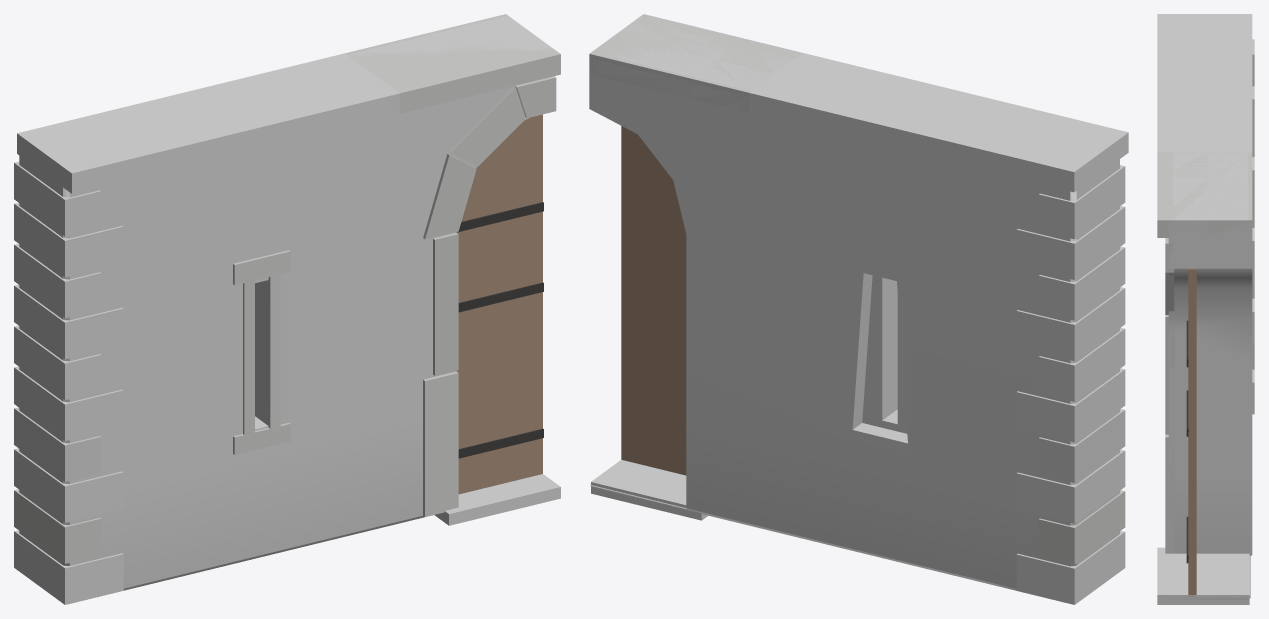
The model's file is Kit_RealKeep_W1FL_Fractured.fbx.
The picture shows the model from 3 angles, left to right: view 1: azimuth 30°, elevation 25°; view 2: azimuth 150°, elevation 25°; view 3: azimuth 270°, elevation 25°; orthographic projection. The views are drawn at different scales.
Visible parts, largest first — view 1: Kit_RealKeep_W1FL_frag_02, Kit_RealKeep_W1FL_frag_03, Kit_RealKeep_W1FL_frag_06, Kit_RealKeep_W1FL_frag_01, Kit_RealKeep_W1FL_frag_05, Kit_RealKeep_W1FL_frag_04, Kit_RealKeep_W1FL_frag_10, Kit_RealKeep_W1FL_frag_08, Kit_RealKeep_W1FL_frag_09, Kit_RealKeep_W1FL_frag_07; view 2: Kit_RealKeep_W1FL_frag_02, Kit_RealKeep_W1FL_frag_03, Kit_RealKeep_W1FL_frag_06, Kit_RealKeep_W1FL_frag_01, Kit_RealKeep_W1FL_frag_04, Kit_RealKeep_W1FL_frag_05, Kit_RealKeep_W1FL_frag_10, Kit_RealKeep_W1FL_frag_08, Kit_RealKeep_W1FL_frag_07, Kit_RealKeep_W1FL_frag_09; view 3: Kit_RealKeep_W1FL_frag_05, Kit_RealKeep_W1FL_frag_06, Kit_RealKeep_W1FL_frag_02, Kit_RealKeep_W1FL_frag_04, Kit_RealKeep_W1FL_frag_10, Kit_RealKeep_W1FL_frag_01.
Part boxes in pixels (<box>): Kit_RealKeep_W1FL_frag_02: <box>14,93,236,377</box>; Kit_RealKeep_W1FL_frag_03: <box>228,229,393,565</box>; Kit_RealKeep_W1FL_frag_06: <box>345,14,560,375</box>; Kit_RealKeep_W1FL_frag_01: <box>14,346,230,604</box>; Kit_RealKeep_W1FL_frag_05: <box>391,282,560,525</box>; Kit_RealKeep_W1FL_frag_04: <box>182,53,399,268</box>; Kit_RealKeep_W1FL_frag_10: <box>14,284,123,400</box>; Kit_RealKeep_W1FL_frag_08: <box>14,448,123,522</box>; Kit_RealKeep_W1FL_frag_09: <box>14,366,123,440</box>; Kit_RealKeep_W1FL_frag_07: <box>14,530,123,604</box>; Kit_RealKeep_W1FL_frag_02: <box>911,92,1128,378</box>; Kit_RealKeep_W1FL_frag_03: <box>749,232,912,565</box>; Kit_RealKeep_W1FL_frag_06: <box>589,14,802,308</box>; Kit_RealKeep_W1FL_frag_01: <box>911,348,1125,602</box>; Kit_RealKeep_W1FL_frag_04: <box>749,53,964,271</box>; Kit_RealKeep_W1FL_frag_05: <box>590,273,750,525</box>; Kit_RealKeep_W1FL_frag_10: <box>1016,287,1125,401</box>; Kit_RealKeep_W1FL_frag_08: <box>1016,449,1125,523</box>; Kit_RealKeep_W1FL_frag_07: <box>1016,531,1125,604</box>; Kit_RealKeep_W1FL_frag_09: <box>1016,368,1125,442</box>; Kit_RealKeep_W1FL_frag_05: <box>1157,367,1252,604</box>; Kit_RealKeep_W1FL_frag_06: <box>1157,152,1252,434</box>; Kit_RealKeep_W1FL_frag_02: <box>1157,14,1254,156</box>; Kit_RealKeep_W1FL_frag_04: <box>1157,83,1252,152</box>; Kit_RealKeep_W1FL_frag_10: <box>1252,157,1254,227</box>; Kit_RealKeep_W1FL_frag_01: <box>1252,272,1254,369</box>.
Size of what is drawn, in the model's own units: 3.51 by 3.04 by 0.695.
